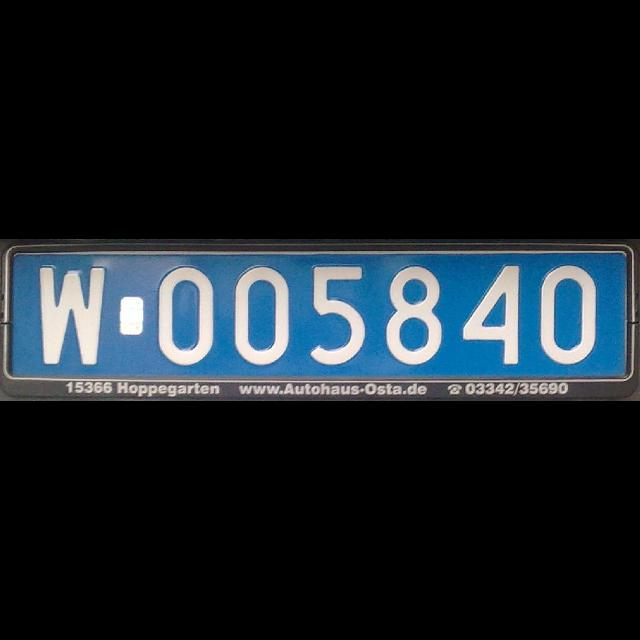pl_license_plate: (10, 250, 628, 378)
